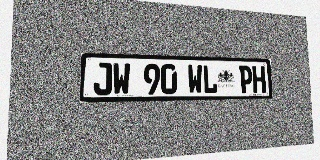0: (161, 64, 177, 94)
9: (144, 63, 160, 95)
H: (252, 66, 266, 93)
J: (93, 62, 112, 95)
L: (203, 65, 217, 94)
P: (239, 65, 253, 93)
W: (112, 63, 130, 95), (187, 64, 203, 94)
